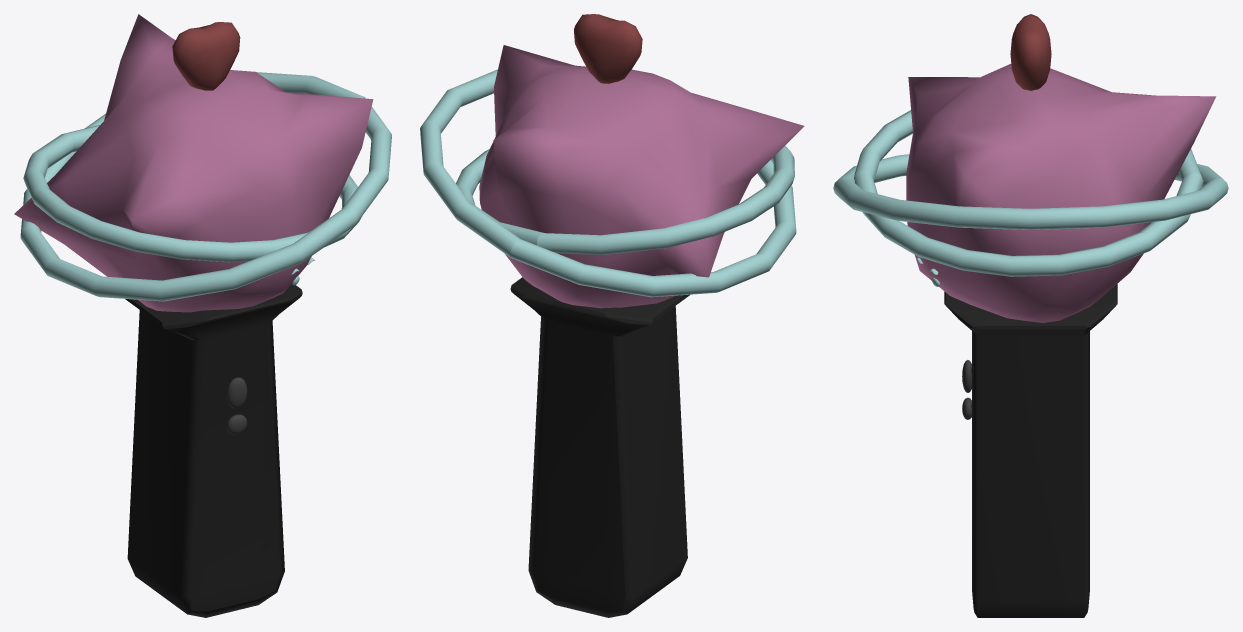
Rendered from LIGHTSTICKFRAN.fbx.
3 views of the same model, side by side, from view 1: azimuth 30°, elevation 25°; view 2: azimuth 150°, elevation 25°; view 3: azimuth 270°, elevation 25° (orthographic). The views are drawn at different scales.
Parts seen in each view (by area): view 1: LIGHTSTICKFRAN; view 2: LIGHTSTICKFRAN; view 3: LIGHTSTICKFRAN.
Part boxes in pixels (x1=…): LIGHTSTICKFRAN: x1=14, y1=14, x2=391, y2=617; LIGHTSTICKFRAN: x1=420, y1=14, x2=804, y2=617; LIGHTSTICKFRAN: x1=833, y1=14, x2=1228, y2=617.
Bounding box in the file's own units: 0.6122 × 1.03 × 0.6347.
